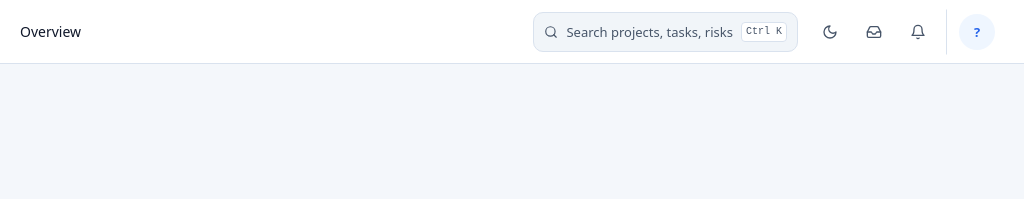
Test case: TopBar attention summary › names a loading summary as loading rather than unavailable
This screenshot has width=1024, height=199.
Click the button named "Alerts, loading" at (918, 32), box [898,12,938,52]
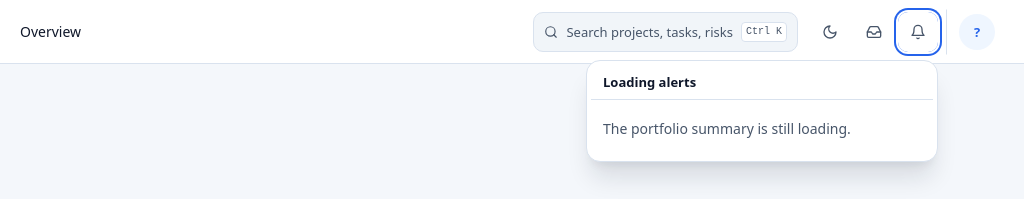
Now the message reads "The portfolio summary is still loading.", box [603,118,851,138]
